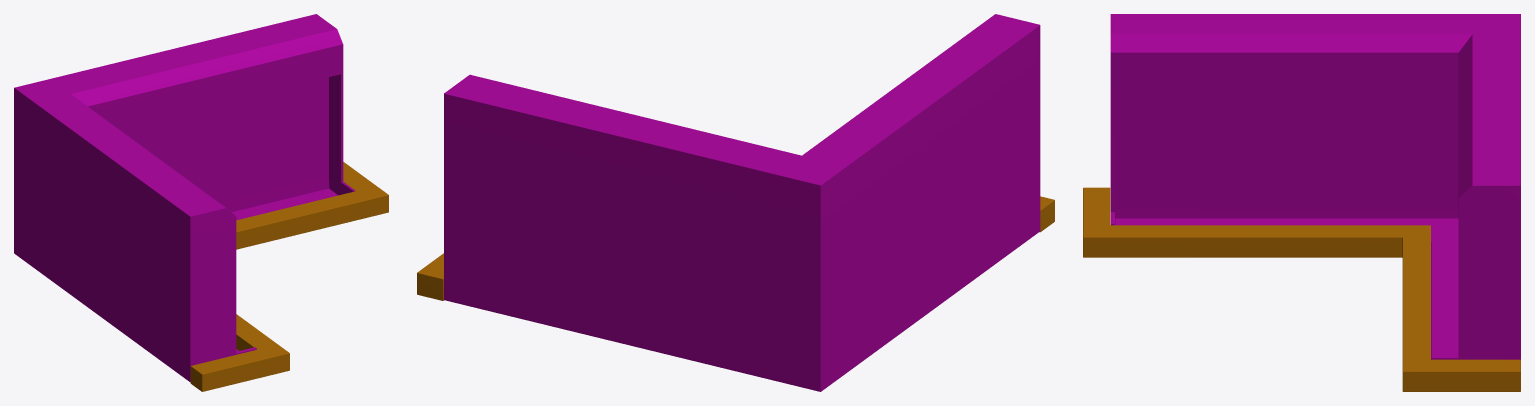
The model's file is ASS_urinal_v000.fbx.
3 views of the same model, side by side, from view 1: azimuth 30°, elevation 25°; view 2: azimuth 150°, elevation 25°; view 3: azimuth 270°, elevation 25° (orthographic). The views are drawn at different scales.
Visible parts, largest first — view 1: pPlane4, pCube3; view 2: pPlane4, pCube3; view 3: pPlane4, pCube3.
Part boxes in pixels (x1,y1,x2,y2): pPlane4: (14,14,354,382); pCube3: (190,162,388,391); pPlane4: (444,14,1040,391); pCube3: (417,196,1054,300); pPlane4: (1110,14,1520,359); pCube3: (1083,187,1520,391).
Bounding box in the file's own units: 128 × 62.84 × 128.
